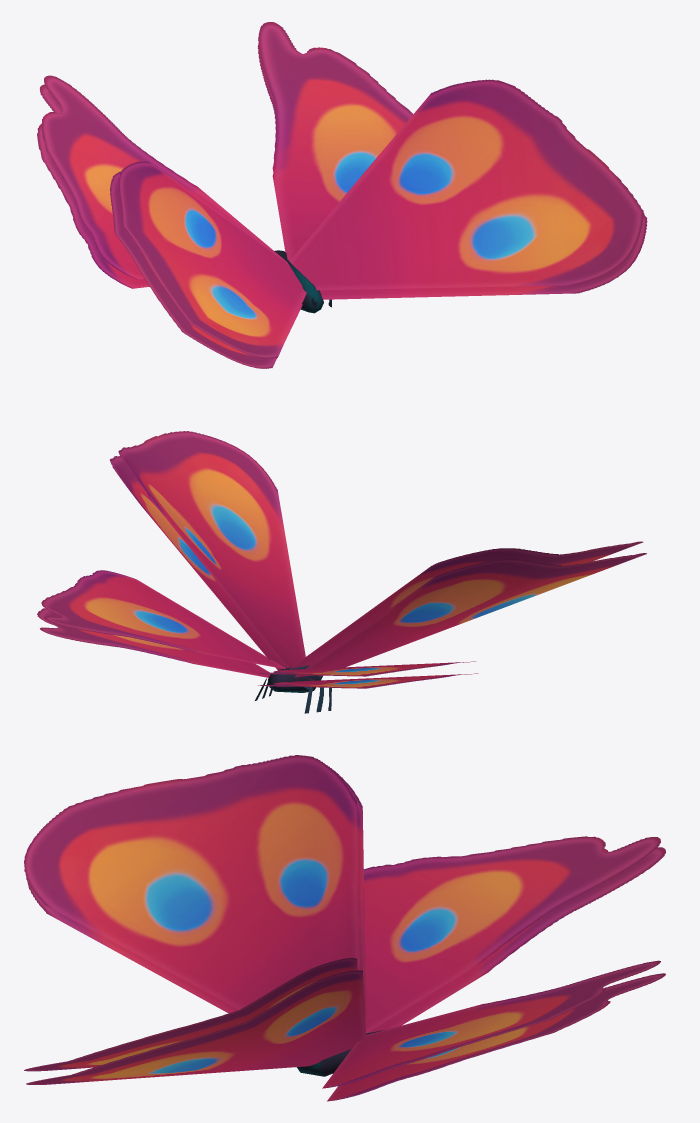
Rendered from SE_Butterfly_02.fbx.
3 views of the same model, one above another, from view 1: azimuth 30°, elevation 25°; view 2: azimuth 150°, elevation 25°; view 3: azimuth 270°, elevation 25° (orthographic). The views are drawn at different scales.
Parts seen in each view (by area): view 1: SE_Butterfly_02; view 2: SE_Butterfly_02; view 3: SE_Butterfly_02.
Part boxes in pixels (x1,y1,x2,y2): SE_Butterfly_02: [37, 22, 647, 368]; SE_Butterfly_02: [37, 431, 646, 713]; SE_Butterfly_02: [24, 755, 665, 1101].
Bounding box in the file's own units: 1.89 × 0.7122 × 1.86.
